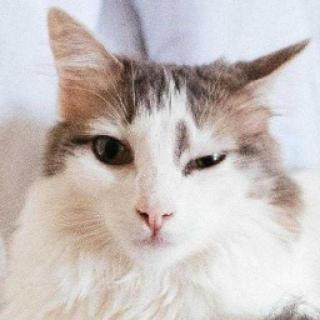cat: (41, 3, 292, 276)
nose: (129, 169, 183, 236)
